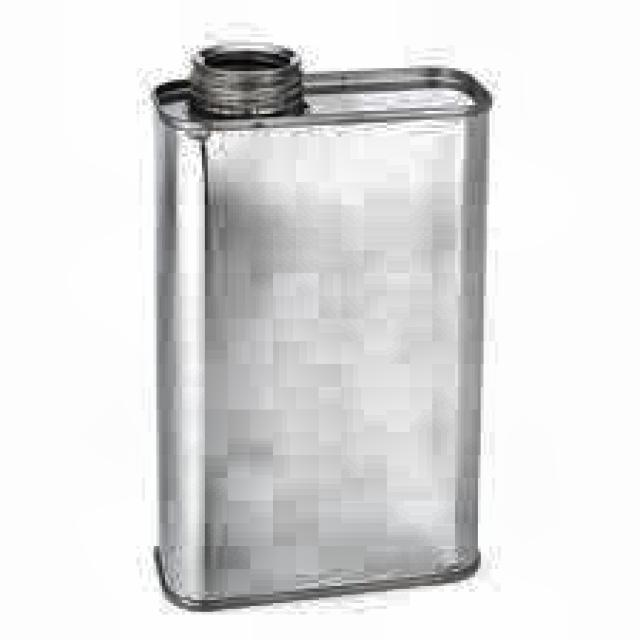can: (142, 30, 509, 621)
